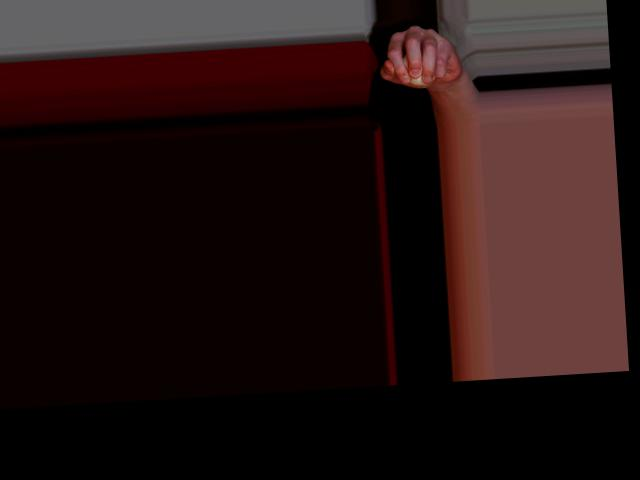egg: (398, 51, 435, 86)
